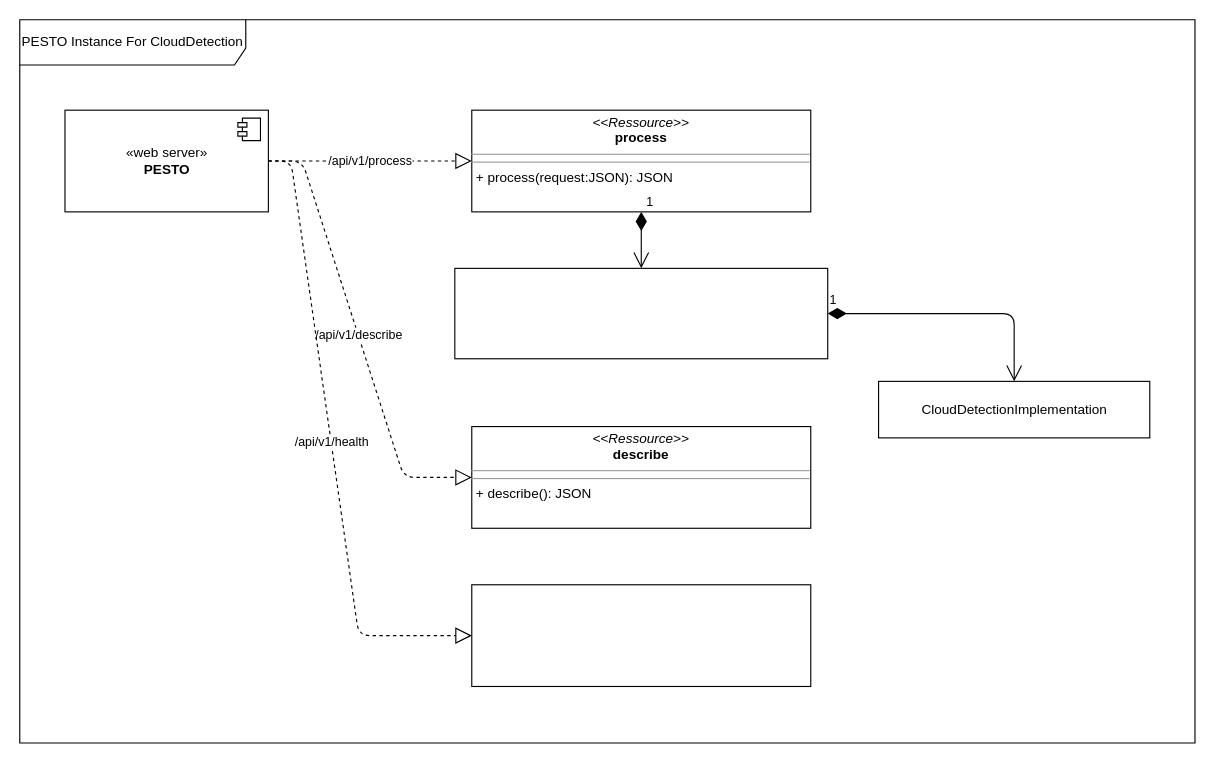
Image size: 1215x763. Some labels were removed from this diagram. The shapes that lost their labels are listed below. From the top down, each one's centre as x and y in pixels, then its label:
At [641,313]: "GeoProcess + process(InputParameters): OutputParmeters".
At [641,635]: "<<Ressource>> health + health(): JSON".
